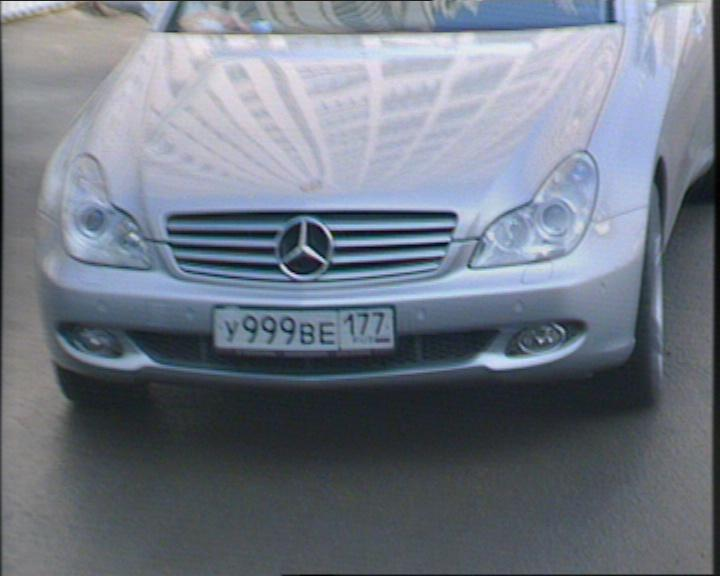license-plateSW: (214, 304, 400, 352)
